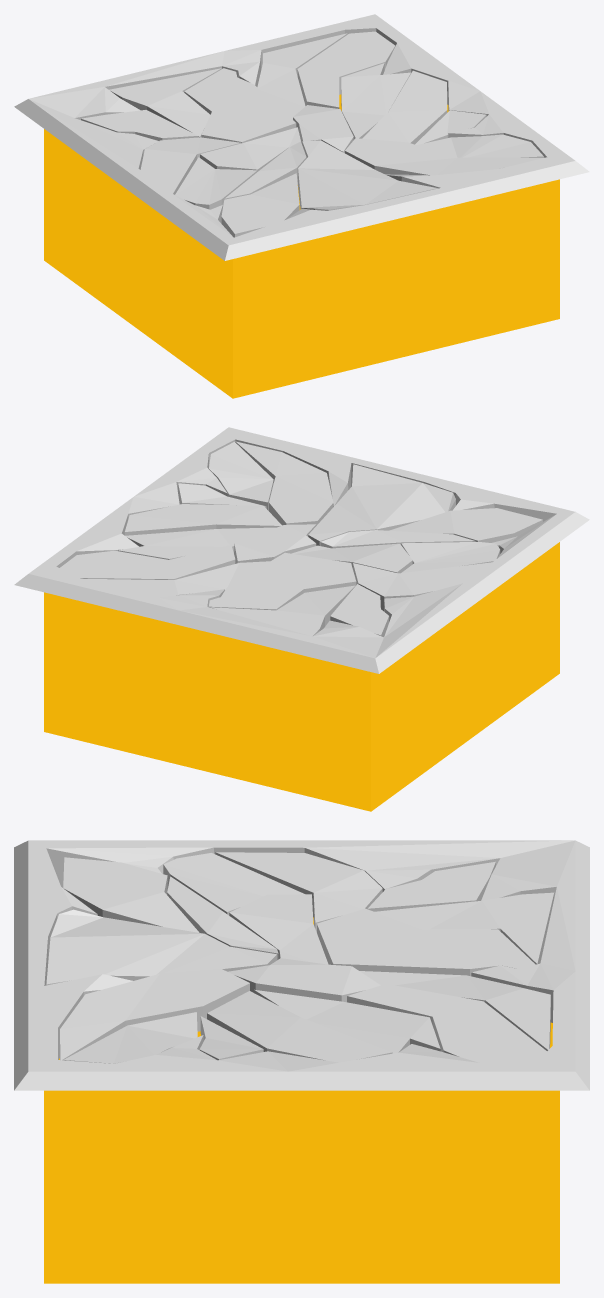
File: tile_break1.fbx
3 renders of one model, top to bottom at view 1: azimuth 30°, elevation 25°; view 2: azimuth 150°, elevation 25°; view 3: azimuth 270°, elevation 25°, orthographic. The views are drawn at different scales.
Parts seen in each view (by area): view 1: lava, break_tile_main, breakable_bits9, breakable_bits3, breakable_bits12, breakable_bits16, breakable_bits14, breakable_bits2, breakable_bits13, breakable_bits8, breakable_bits11, breakable_bits4 (+7 smaller); view 2: lava, break_tile_main, breakable_bits9, breakable_bits3, breakable_bits16, breakable_bits12, breakable_bits14, breakable_bits8, breakable_bits4, breakable_bits2, breakable_bits13, breakable_bits17 (+7 smaller); view 3: lava, break_tile_main, breakable_bits9, breakable_bits3, breakable_bits16, breakable_bits12, breakable_bits14, breakable_bits8, breakable_bits4, breakable_bits2, breakable_bits13, breakable_bits11 (+7 smaller).
Boxes of the visible parts, left/top/right/bottom form: lava: left=44, top=94, right=559, bottom=398; break_tile_main: left=14, top=14, right=589, bottom=260; breakable_bits9: left=298, top=140, right=437, bottom=210; breakable_bits3: left=184, top=68, right=296, bottom=143; breakable_bits12: left=297, top=31, right=395, bottom=108; breakable_bits16: left=345, top=138, right=543, bottom=175; breakable_bits14: left=362, top=70, right=447, bottom=144; breakable_bits2: left=109, top=68, right=222, bottom=137; breakable_bits13: left=341, top=63, right=411, bottom=139; breakable_bits8: left=221, top=173, right=299, bottom=237; breakable_bits11: left=257, top=33, right=347, bottom=119; breakable_bits4: left=140, top=137, right=241, bottom=194; lava: left=44, top=542, right=559, bottom=811; break_tile_main: left=14, top=427, right=589, bottom=673; breakable_bits9: left=308, top=464, right=455, bottom=545; breakable_bits3: left=208, top=552, right=356, bottom=610; breakable_bits16: left=235, top=441, right=333, bottom=525; breakable_bits12: left=59, top=544, right=235, bottom=579; breakable_bits14: left=124, top=504, right=281, bottom=535; breakable_bits8: left=389, top=508, right=542, bottom=542; breakable_bits4: left=353, top=562, right=491, bottom=611; breakable_bits2: left=210, top=585, right=355, bottom=636; breakable_bits13: left=118, top=527, right=275, bottom=559; breakable_bits17: left=209, top=442, right=273, bottom=510; lava: left=44, top=917, right=559, bottom=1283; break_tile_main: left=14, top=840, right=589, bottom=1090; breakable_bits9: left=46, top=909, right=277, bottom=985; breakable_bits3: left=317, top=908, right=535, bottom=976; breakable_bits16: left=60, top=969, right=249, bottom=1060; breakable_bits12: left=347, top=984, right=546, bottom=1062; breakable_bits14: left=207, top=991, right=392, bottom=1062; breakable_bits8: left=63, top=857, right=199, bottom=932; breakable_bits4: left=215, top=852, right=382, bottom=932; breakable_bits2: left=374, top=892, right=554, bottom=964; breakable_bits13: left=254, top=989, right=440, bottom=1053; breakable_bits11: left=360, top=971, right=550, bottom=1050.
Bounding box in the file's own units: 0.02 × 0.00838 × 0.02.
